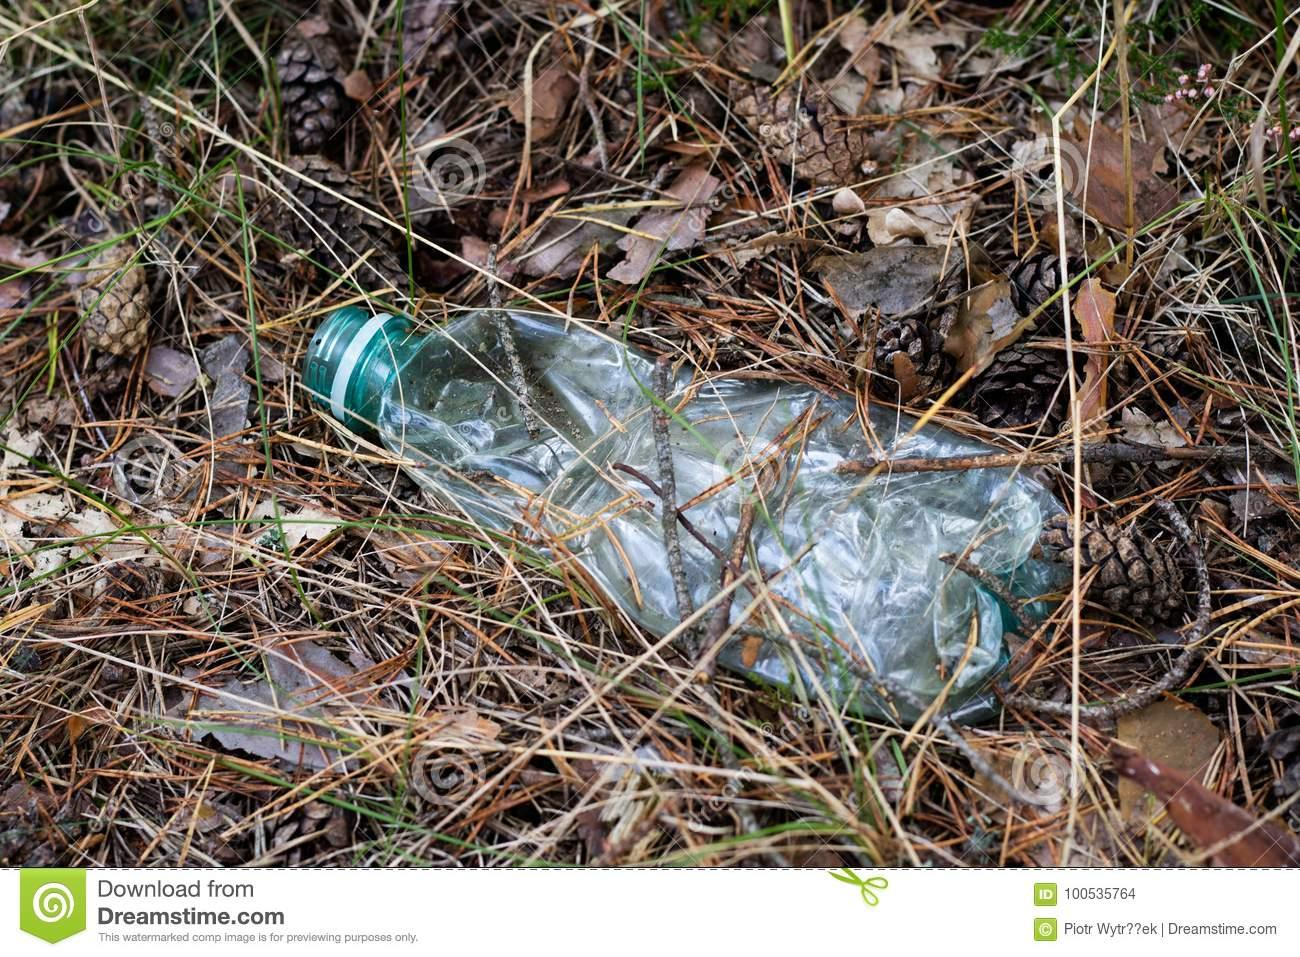bottle: (294, 255, 1088, 795)
